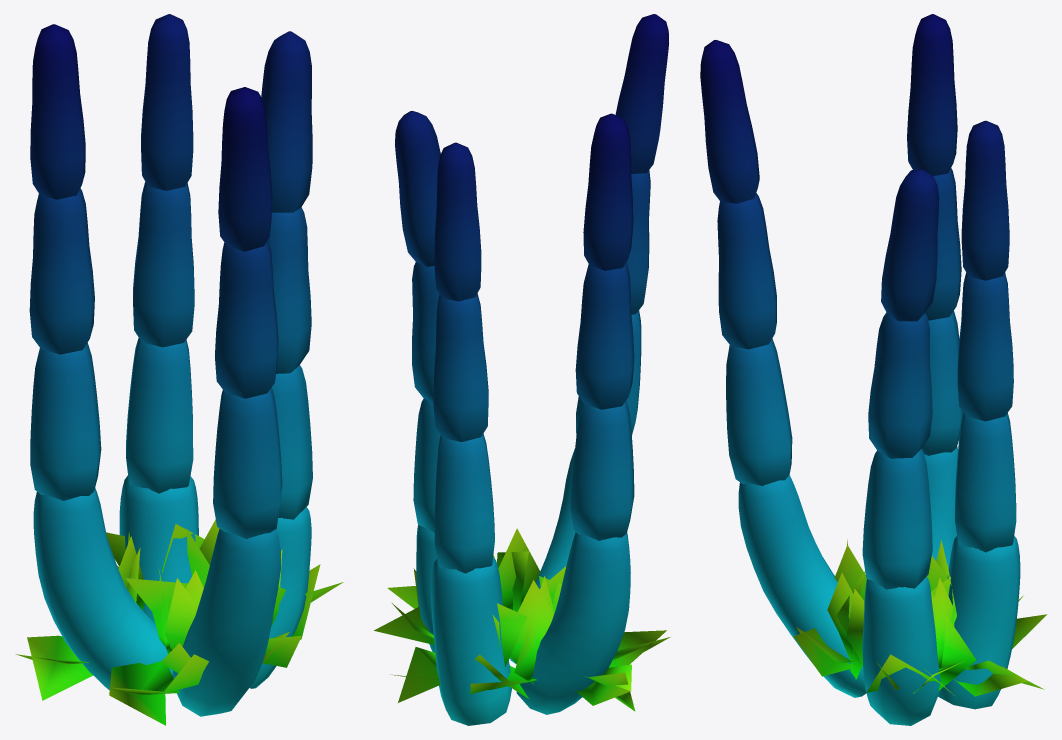
File: Piko2.fbx
3 renders of one model, left to right at view 1: azimuth 30°, elevation 25°; view 2: azimuth 150°, elevation 25°; view 3: azimuth 270°, elevation 25°, orthographic. The views are drawn at different scales.
Parts seen in each view (by area): view 1: Piko2_LOD0; view 2: Piko2_LOD0; view 3: Piko2_LOD0.
Boxes of the visible parts, x1=… form: Piko2_LOD0: x1=15, y1=14, x2=343, y2=725; Piko2_LOD0: x1=374, y1=14, x2=670, y2=725; Piko2_LOD0: x1=700, y1=14, x2=1046, y2=725.
Size of what is drawn, in the model's own units: 86 by 190 by 94.14.
